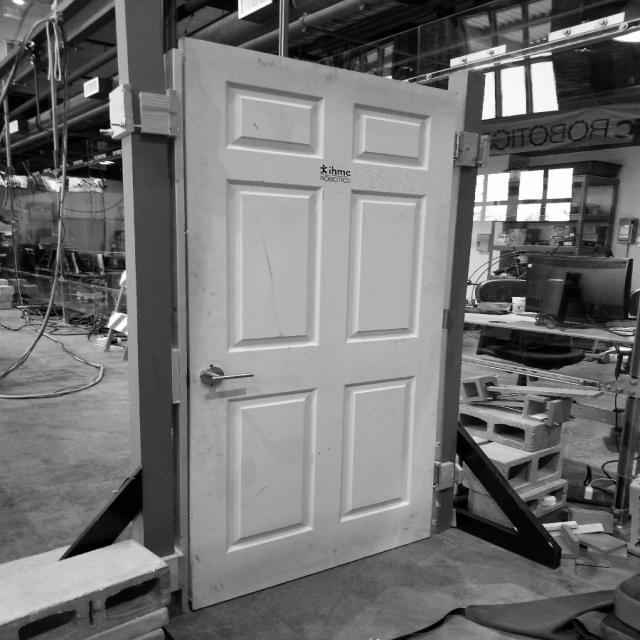door: (174, 32, 464, 614), (199, 362, 258, 390)
